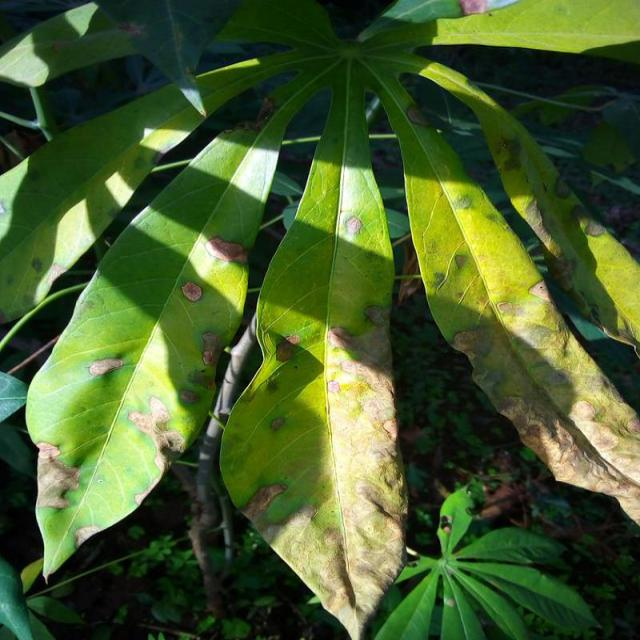cassava leaf: (1, 1, 638, 634), (364, 54, 639, 527), (24, 122, 282, 584), (218, 65, 408, 638)
